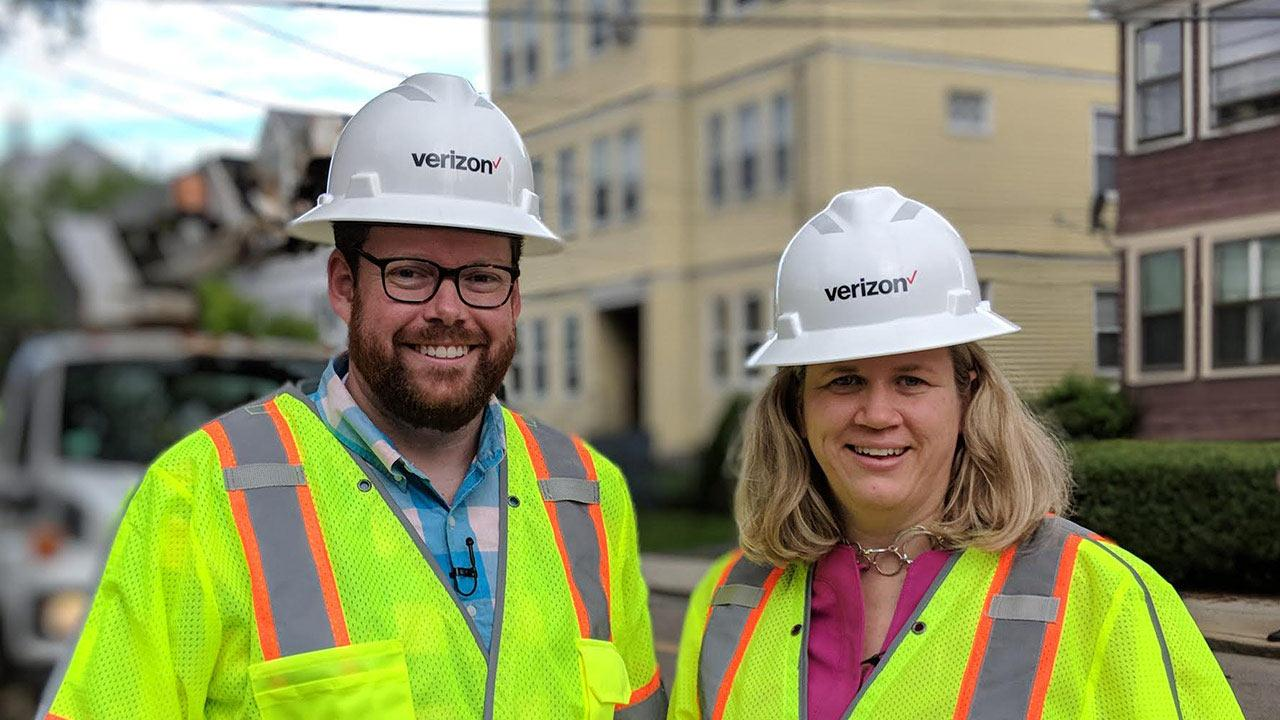helmet: (286, 72, 559, 257), (748, 190, 1016, 375)
